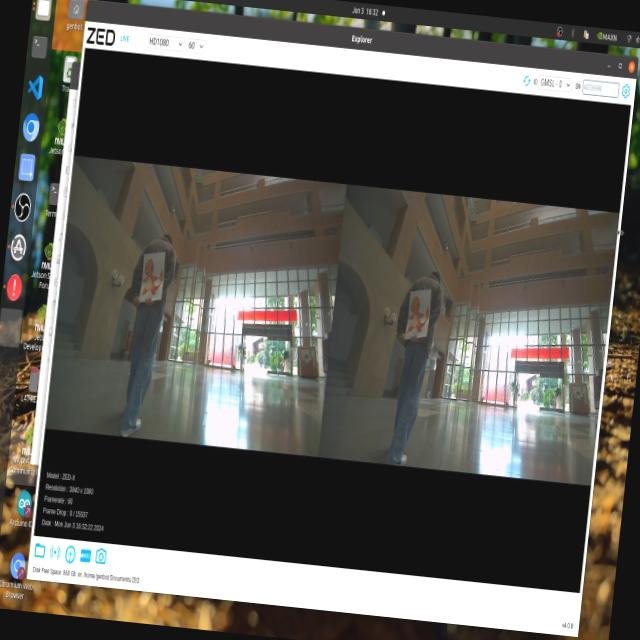red: (130, 249, 173, 304), (404, 290, 433, 344)
